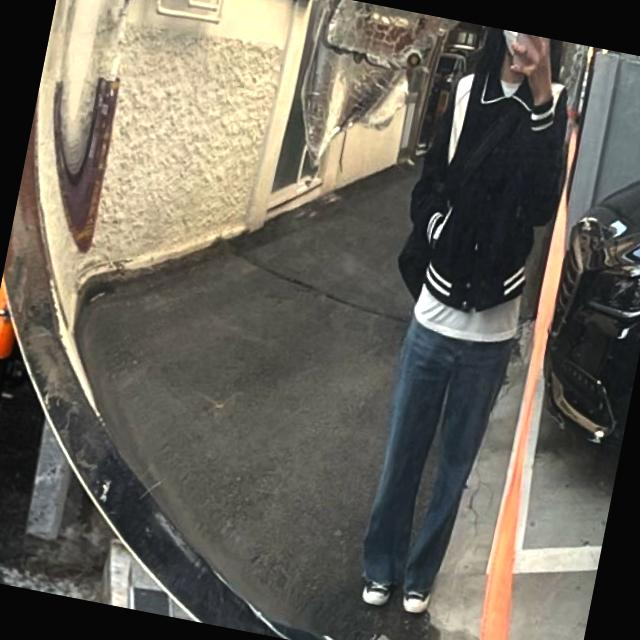denimpants: (358, 316, 508, 602)
jacket: (392, 48, 583, 326)
